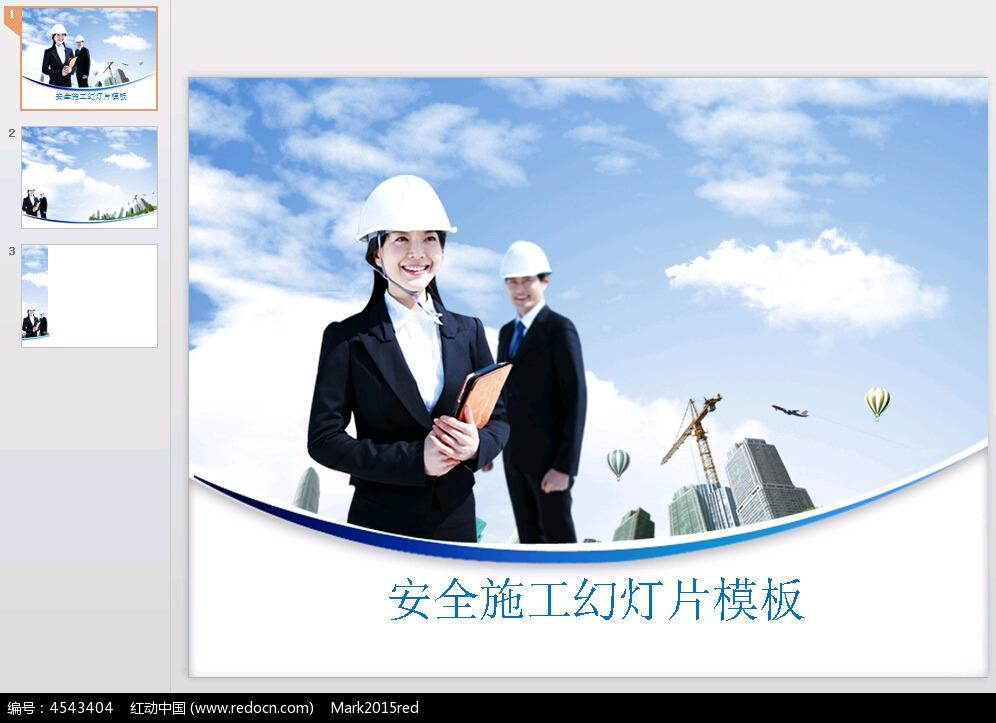helmet: (354, 174, 458, 244), (499, 238, 552, 282)
